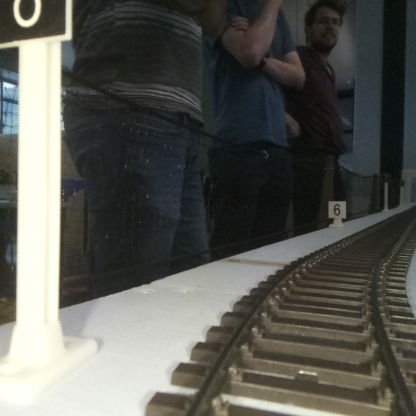white-stop-6: (328, 201, 345, 225)
